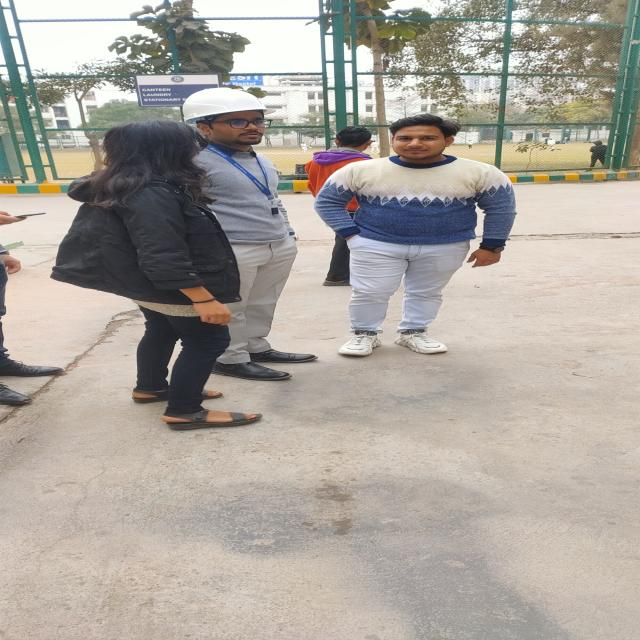no jacket: (182, 89, 290, 384)
unsafe: (72, 121, 262, 430), (314, 115, 518, 356), (305, 126, 371, 182), (589, 139, 606, 167), (300, 142, 308, 154), (547, 138, 555, 150), (468, 140, 473, 149), (566, 138, 570, 144)
